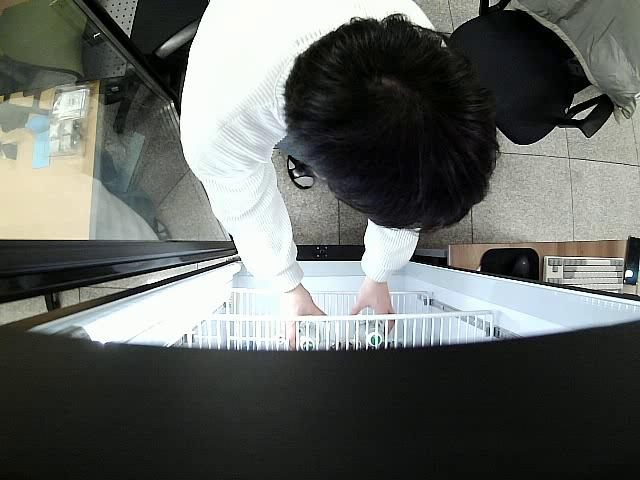00_hand: (279, 281, 334, 350), (348, 277, 399, 337)
18_trevi: (297, 324, 326, 351), (361, 328, 392, 349)
